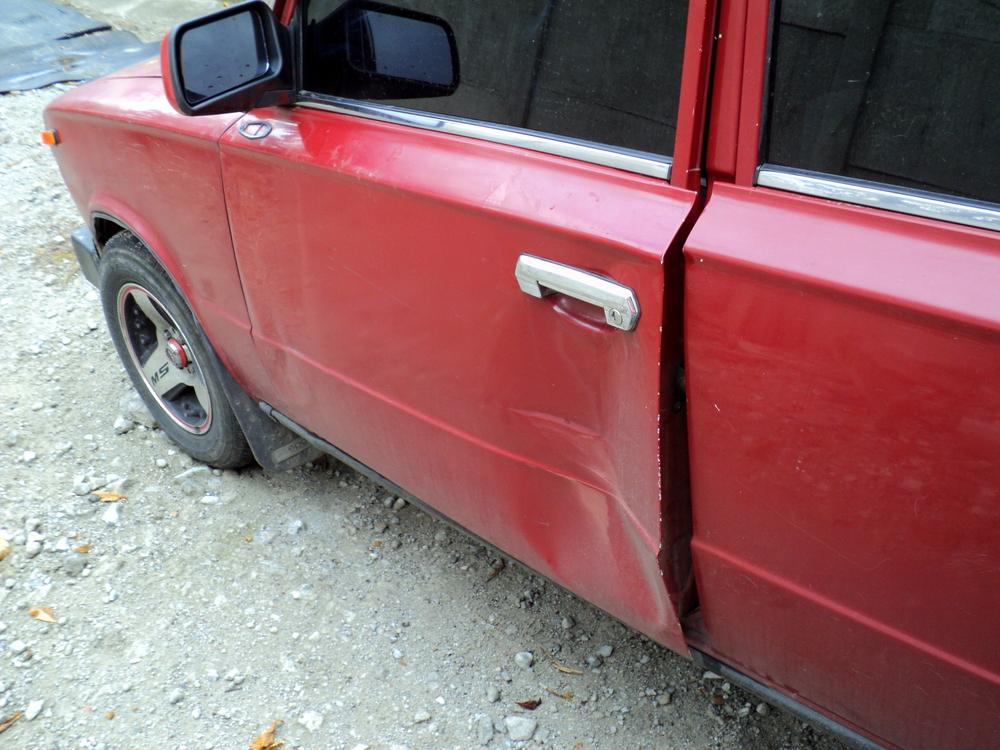dent: (487, 303, 663, 621)
